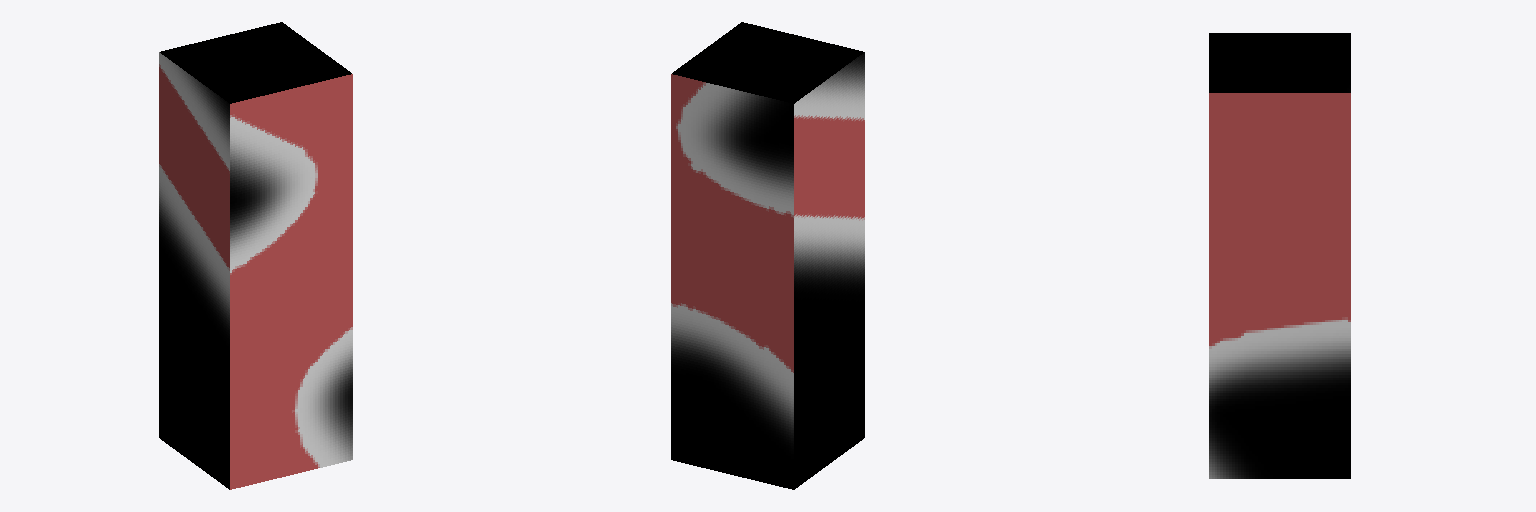
3 views of the same model, side by side, from view 1: azimuth 30°, elevation 25°; view 2: azimuth 150°, elevation 25°; view 3: azimuth 270°, elevation 25° (orthographic).
Parts seen in each view (by area): view 1: 左すね; view 2: 左すね; view 3: 左すね.
Part boxes in pixels (x1,y1,x2,y2): 左すね: (159, 22, 352, 489); 左すね: (671, 22, 864, 489); 左すね: (1209, 33, 1350, 478).
Bounding box in the file's own units: 3 × 9 × 3.
Materials: 1 (1 with a texture image).